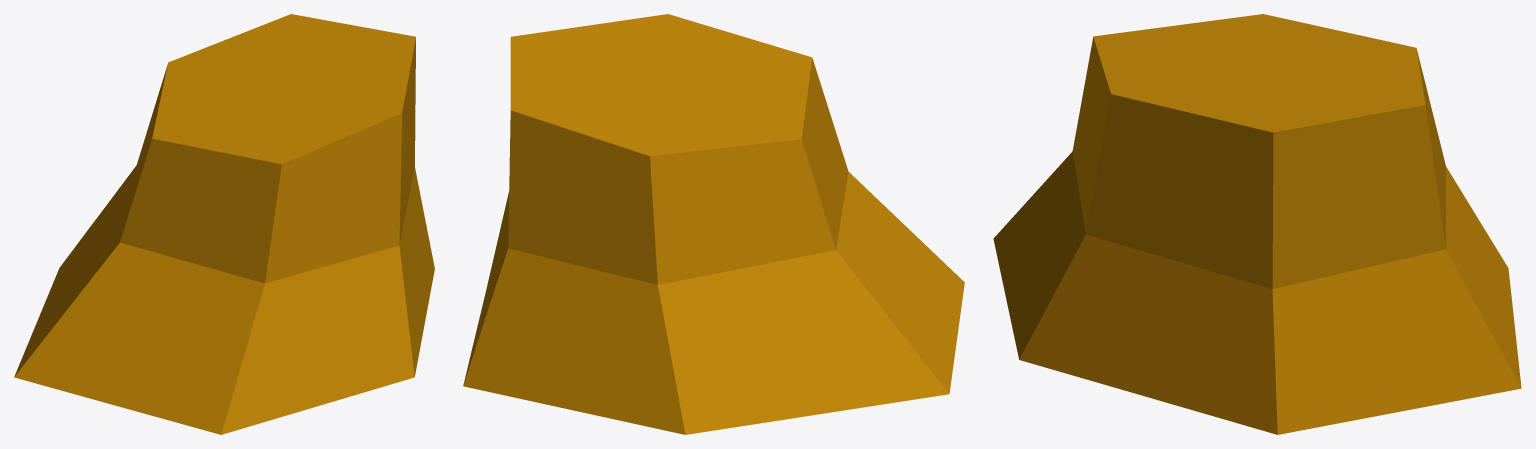
Rendered from Pierre_3_Modèle.FBX.
The picture shows the model from 3 angles, left to right: view 1: azimuth 30°, elevation 25°; view 2: azimuth 150°, elevation 25°; view 3: azimuth 270°, elevation 25°; orthographic projection. The views are drawn at different scales.
Parts seen in each view (by area): view 1: Cone009; view 2: Cone009; view 3: Cone009.
Boxes of the visible parts, left/top/right/bottom form: Cone009: left=14, top=14, right=434, bottom=434; Cone009: left=463, top=14, right=964, bottom=434; Cone009: left=993, top=14, right=1521, bottom=434.
Size of the model in its own units: 123 by 65.61 by 108.
